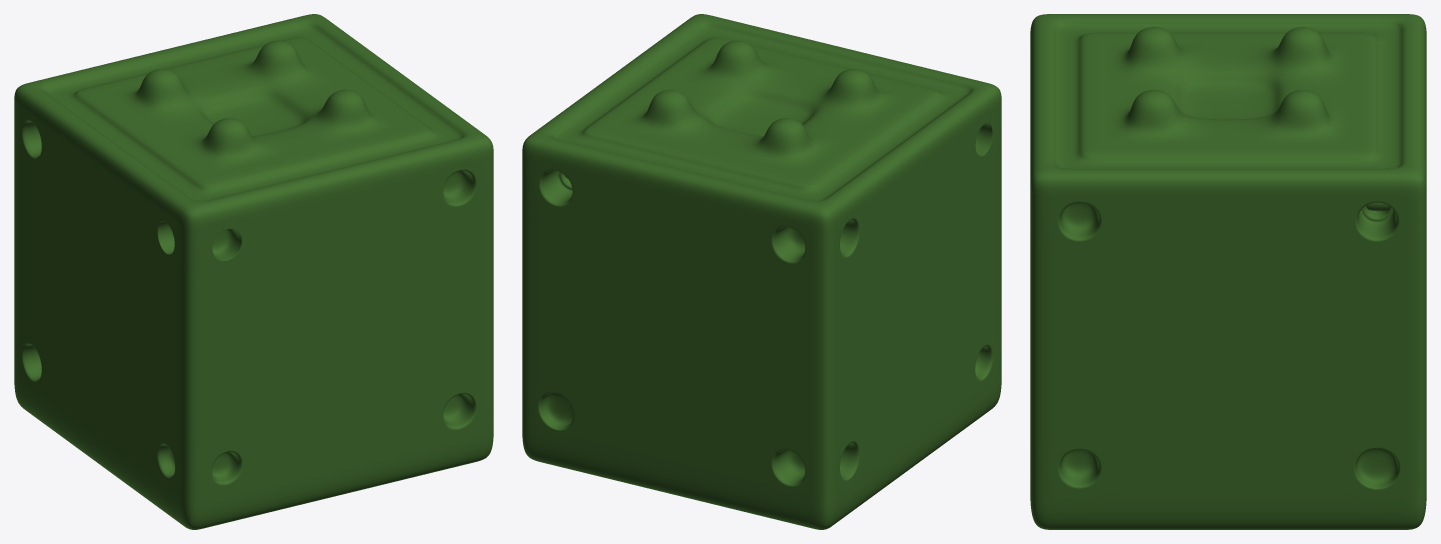
The model's file is Cube Luar.fbx.
The picture shows the model from 3 angles, left to right: view 1: azimuth 30°, elevation 25°; view 2: azimuth 150°, elevation 25°; view 3: azimuth 270°, elevation 25°; orthographic projection. The views are drawn at different scales.
Visible parts, largest first — view 1: Cube 3; view 2: Cube 3; view 3: Cube 3.
Part boxes in pixels (left/top/right/bottom): Cube 3: left=14, top=14, right=493, bottom=529; Cube 3: left=522, top=14, right=1001, bottom=529; Cube 3: left=1030, top=14, right=1426, bottom=529.
Size of the model in its own units: 400 by 435 by 400.
